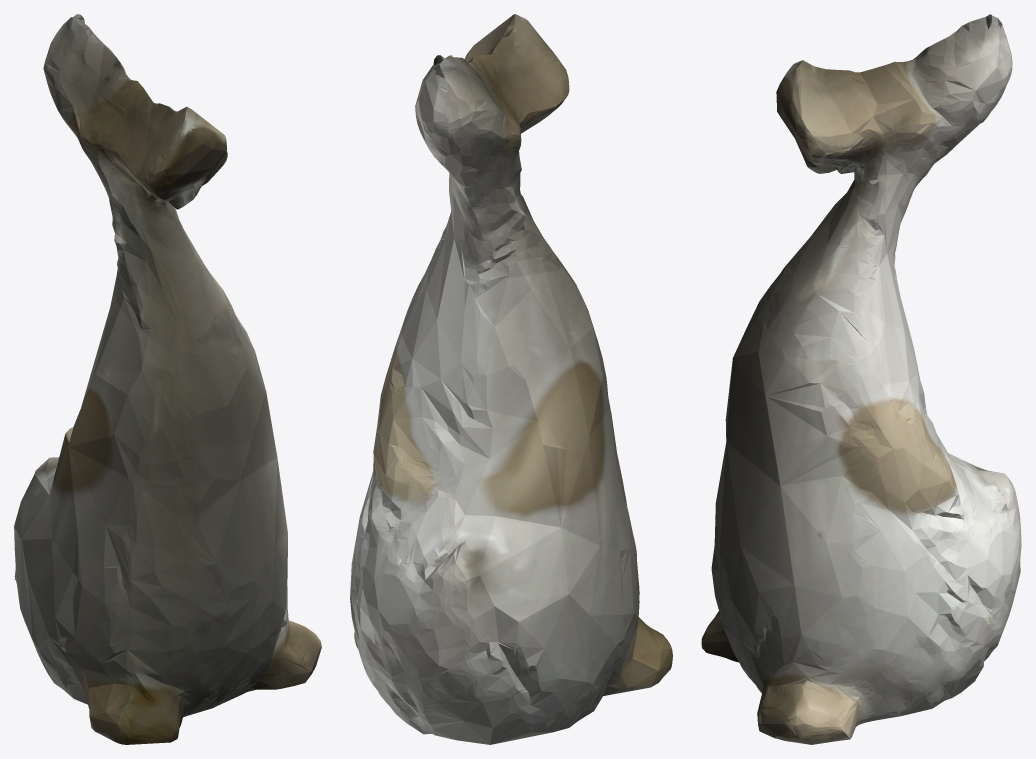
Rendered from DecorationDuck.obj.
The picture shows the model from 3 angles, left to right: view 1: azimuth 30°, elevation 25°; view 2: azimuth 150°, elevation 25°; view 3: azimuth 270°, elevation 25°; orthographic projection. The views are drawn at different scales.
Size of the model in its own units: 42.35 by 102 by 45.15.
Materials: 1 (1 with a texture image).
